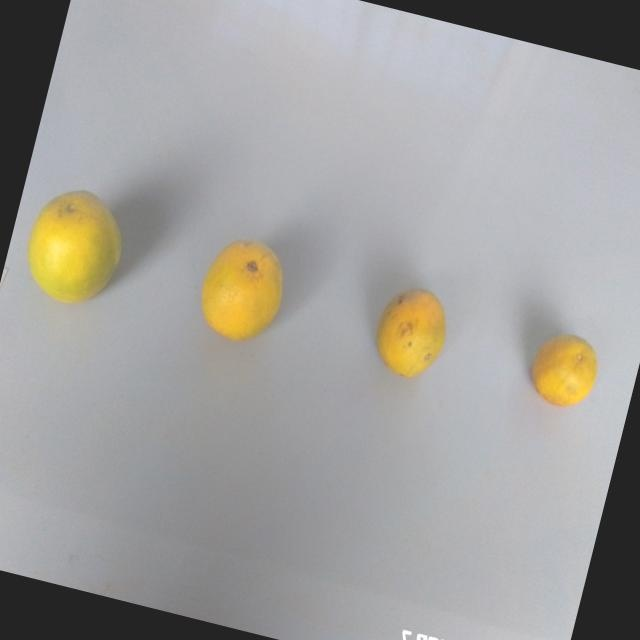agrume: (11, 175, 134, 314), (191, 228, 301, 355), (360, 274, 460, 394), (519, 321, 614, 422)
